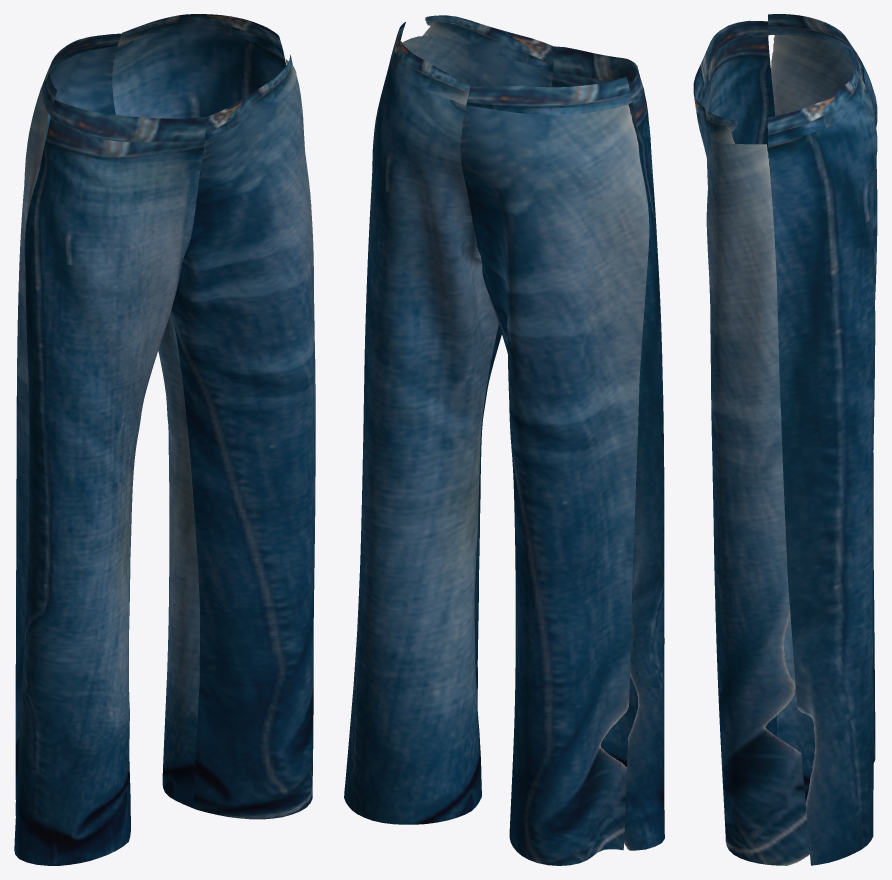
File: 11Beggy.fbx
The picture shows the model from 3 angles, left to right: view 1: azimuth 30°, elevation 25°; view 2: azimuth 150°, elevation 25°; view 3: azimuth 270°, elevation 25°; orthographic projection. The views are drawn at different scales.
Parts seen in each view (by area): view 1: Baggy Jeans; view 2: Baggy Jeans; view 3: Baggy Jeans.
Part boxes in pixels (x1,y1,x2,y2): Baggy Jeans: (14,14,315,865); Baggy Jeans: (344,15,664,865); Baggy Jeans: (693,14,877,865).
Size of the model in its own units: 42.34 by 106 by 23.96.
